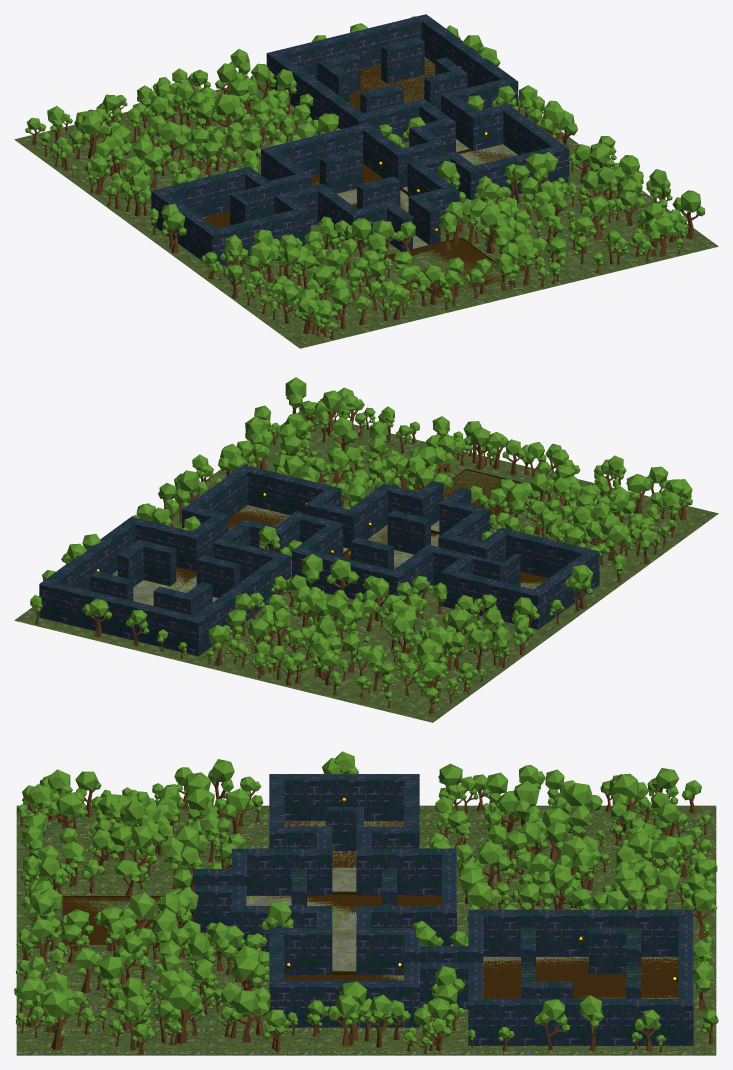
The model's file is Level.glb.
3 views of the same model, one above another, from view 1: azimuth 30°, elevation 25°; view 2: azimuth 150°, elevation 25°; view 3: azimuth 270°, elevation 25° (orthographic). The views are drawn at different scales.
Visible parts, largest first — view 1: MapTree, Ground, Wall.047, Wall.051, Wall.045, Wall.029, Wall.033, Wall.007, Wall.028, Wall.030, Wall.013, Wall.052 (+34 smaller); view 2: MapTree, Ground, Wall.047, Wall.045, Wall.028, Wall.029, Wall.051, Wall.033, Wall.007, Wall.030, Wall.048, Wall.006 (+33 smaller); view 3: MapTree, Ground, Wall.051, Wall.045, Room5_Point, Wall.030, Wall.034, Wall.012, Wall.005, Wall.035, Wall.036, Room1_TreeLeaf.002 (+37 smaller).
Part boxes in pixels (left/top/right/bottom): MapTree: left=25, top=16, right=705, bottom=339; Ground: left=14, top=80, right=718, bottom=348; Wall.047: left=267, top=14, right=425, bottom=79; Wall.051: left=421, top=14, right=517, bottom=87; Wall.045: left=266, top=53, right=362, bottom=129; Wall.029: left=152, top=166, right=249, bottom=217; Wall.033: left=212, top=209, right=310, bottom=266; Wall.007: left=261, top=123, right=366, bottom=175; Wall.028: left=470, top=146, right=569, bottom=201; Wall.030: left=151, top=190, right=216, bottom=264; Wall.013: left=363, top=123, right=408, bottom=187; Wall.052: left=381, top=37, right=424, bottom=83; MapTree: left=30, top=377, right=692, bottom=714; Ground: left=14, top=412, right=718, bottom=722; Wall.047: left=39, top=582, right=198, bottom=656; Wall.045: left=194, top=555, right=290, bottom=655; Wall.028: left=243, top=464, right=340, bottom=515; Wall.029: left=440, top=570, right=538, bottom=629; Wall.051: left=40, top=517, right=135, bottom=590; Wall.033: left=502, top=527, right=599, bottom=578; Wall.007: left=291, top=549, right=397, bottom=606; Wall.030: left=534, top=551, right=599, bottom=629; Wall.048: left=131, top=516, right=202, bottom=571; Wall.006: left=342, top=484, right=388, bottom=548; MapTree: left=14, top=751, right=718, bottom=1054; Ground: left=16, top=805, right=716, bottom=1055; Wall.051: left=468, top=998, right=693, bottom=1045; Wall.045: left=468, top=909, right=693, bottom=956; Room5_Point: left=483, top=957, right=678, bottom=998; Wall.030: left=269, top=774, right=418, bottom=821; Wall.034: left=269, top=980, right=419, bottom=1027; Wall.012: left=232, top=848, right=332, bottom=895; Wall.005: left=356, top=848, right=456, bottom=895; Wall.035: left=270, top=928, right=332, bottom=975; Wall.036: left=356, top=928, right=417, bottom=975; Room1_TreeLeaf.002: left=46, top=892, right=188, bottom=936.
Bounding box in the file's own units: 80.27 × 14.9 × 93.86.
Materials: 9 (3 with a texture image).
